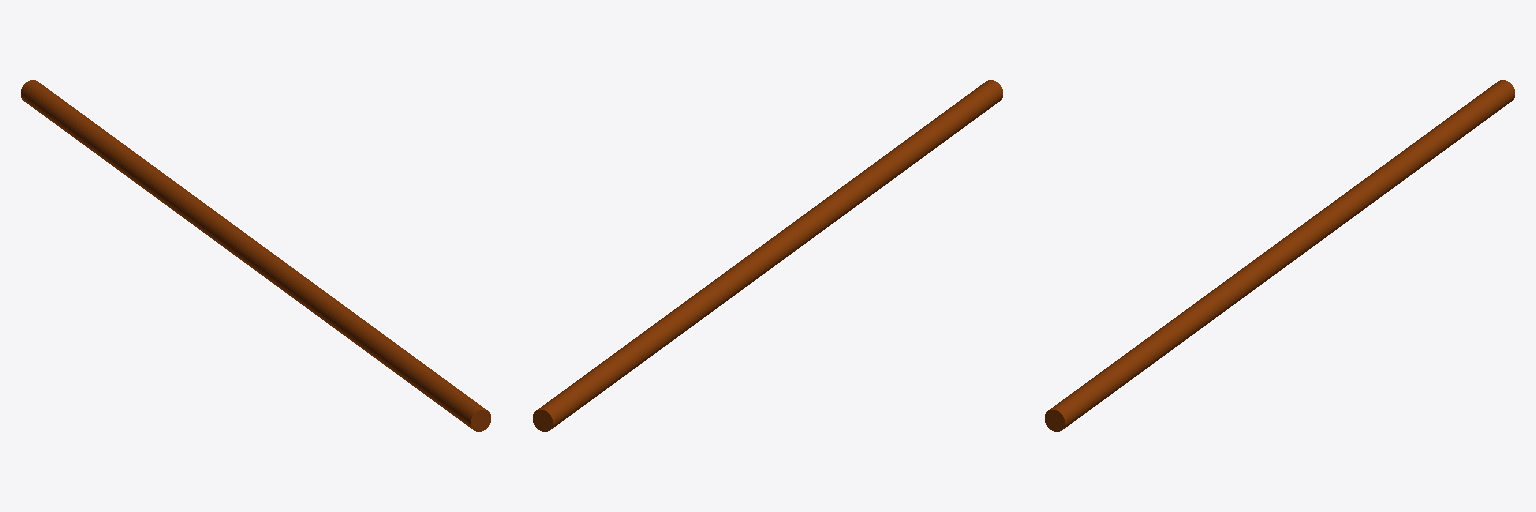
The robot description file, URDF, robot "cylinder":
<?xml version="1.0" ?>
<!-- =================================================================================== -->
<!-- |    This document was autogenerated by xacro from cylinder.xacro                 | -->
<!-- |    EDITING THIS FILE BY HAND IS NOT RECOMMENDED                                 | -->
<!-- =================================================================================== -->
<robot name="cylinder">
  <link name="world"/>
  <link name="base">
    <visual>
      <origin rpy="1.57079633 0 0" xyz="0 0 0"/>
      <geometry>
        <cylinder length="7.07106781185" radius="0.095"/>
      </geometry>
      <material name="cylinder_material">
        <color rgba="0.545 0.271 0.075 1.0"/>
        <texture filename="../textures/tree_bark.jpg"/>
      </material>
    </visual>
    <collision>
      <origin rpy="1.57079633 0 0" xyz="0 0 0"/>
      <geometry>
        <cylinder length="7.07106781185" radius="0.095"/>
      </geometry>
    </collision>
    <inertial>
      <origin rpy="0 0 0" xyz="0 0 0"/>
      <mass value="1"/>
      <inertia ixx="4.1689229166484285" ixy="0.0" ixz="0.0" iyy="4.1689229166484285" iyz="0.0" izz="24.999999999890573"/>
    </inertial>
  </link>
  <joint name="base_joint" type="fixed">
    <parent link="world"/>
    <child link="base"/>
    <origin rpy="0 0 0" xyz="0.0 0.0 0.0"/>
  </joint>
</robot>

--- Facts derived from the render (not from the file) ---
The picture shows the robot from 3 angles, left to right: view 1: azimuth 30°, elevation 25°; view 2: azimuth 150°, elevation 25°; view 3: azimuth 330°, elevation 25°; orthographic projection.
Model cylinder with 2 links and 1 joints (1 fixed), rooted at world, posed all joints at 0.
Visible links, largest first — view 1: base; view 2: base; view 3: base.
Link boxes in pixels (x1=…): base: x1=21, y1=80, x2=490, y2=431; base: x1=533, y1=80, x2=1002, y2=431; base: x1=1045, y1=80, x2=1514, y2=431.
Bounding box of the posed robot: 0.19 × 7.07 × 0.19 m (x, y, z).
Geometry: primitives only (box / cylinder / sphere), no mesh files.
